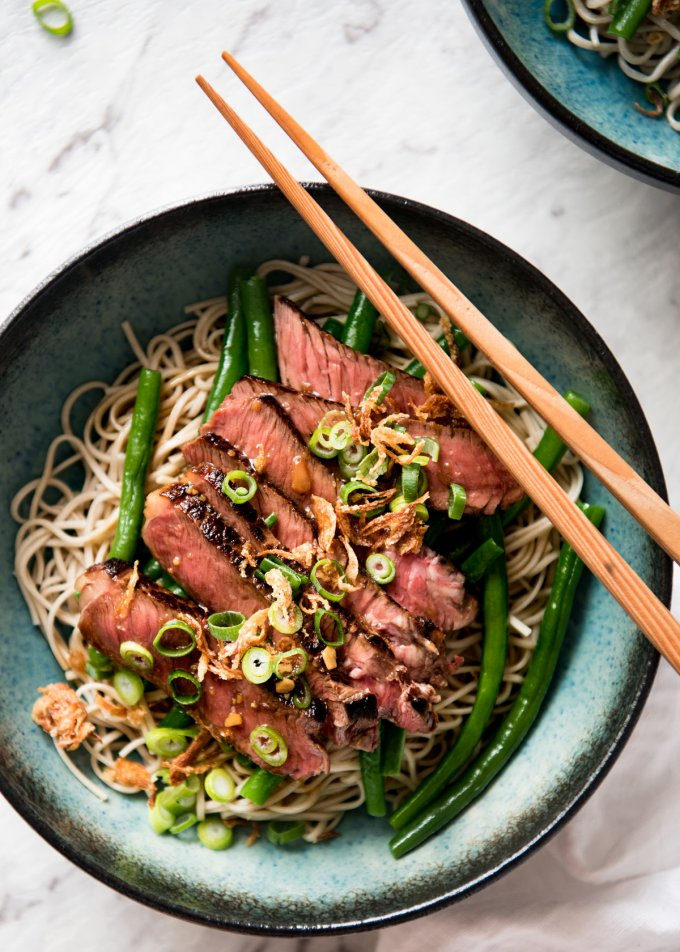Soba: (23, 275, 612, 838)
